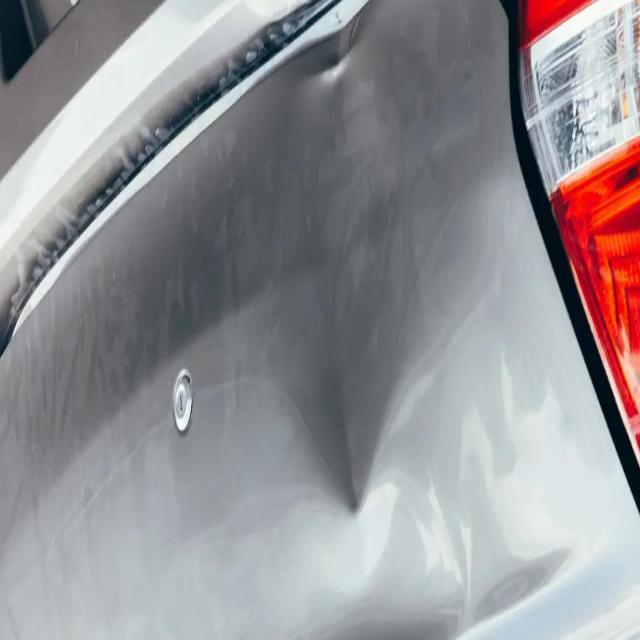dent: (207, 41, 439, 538)
